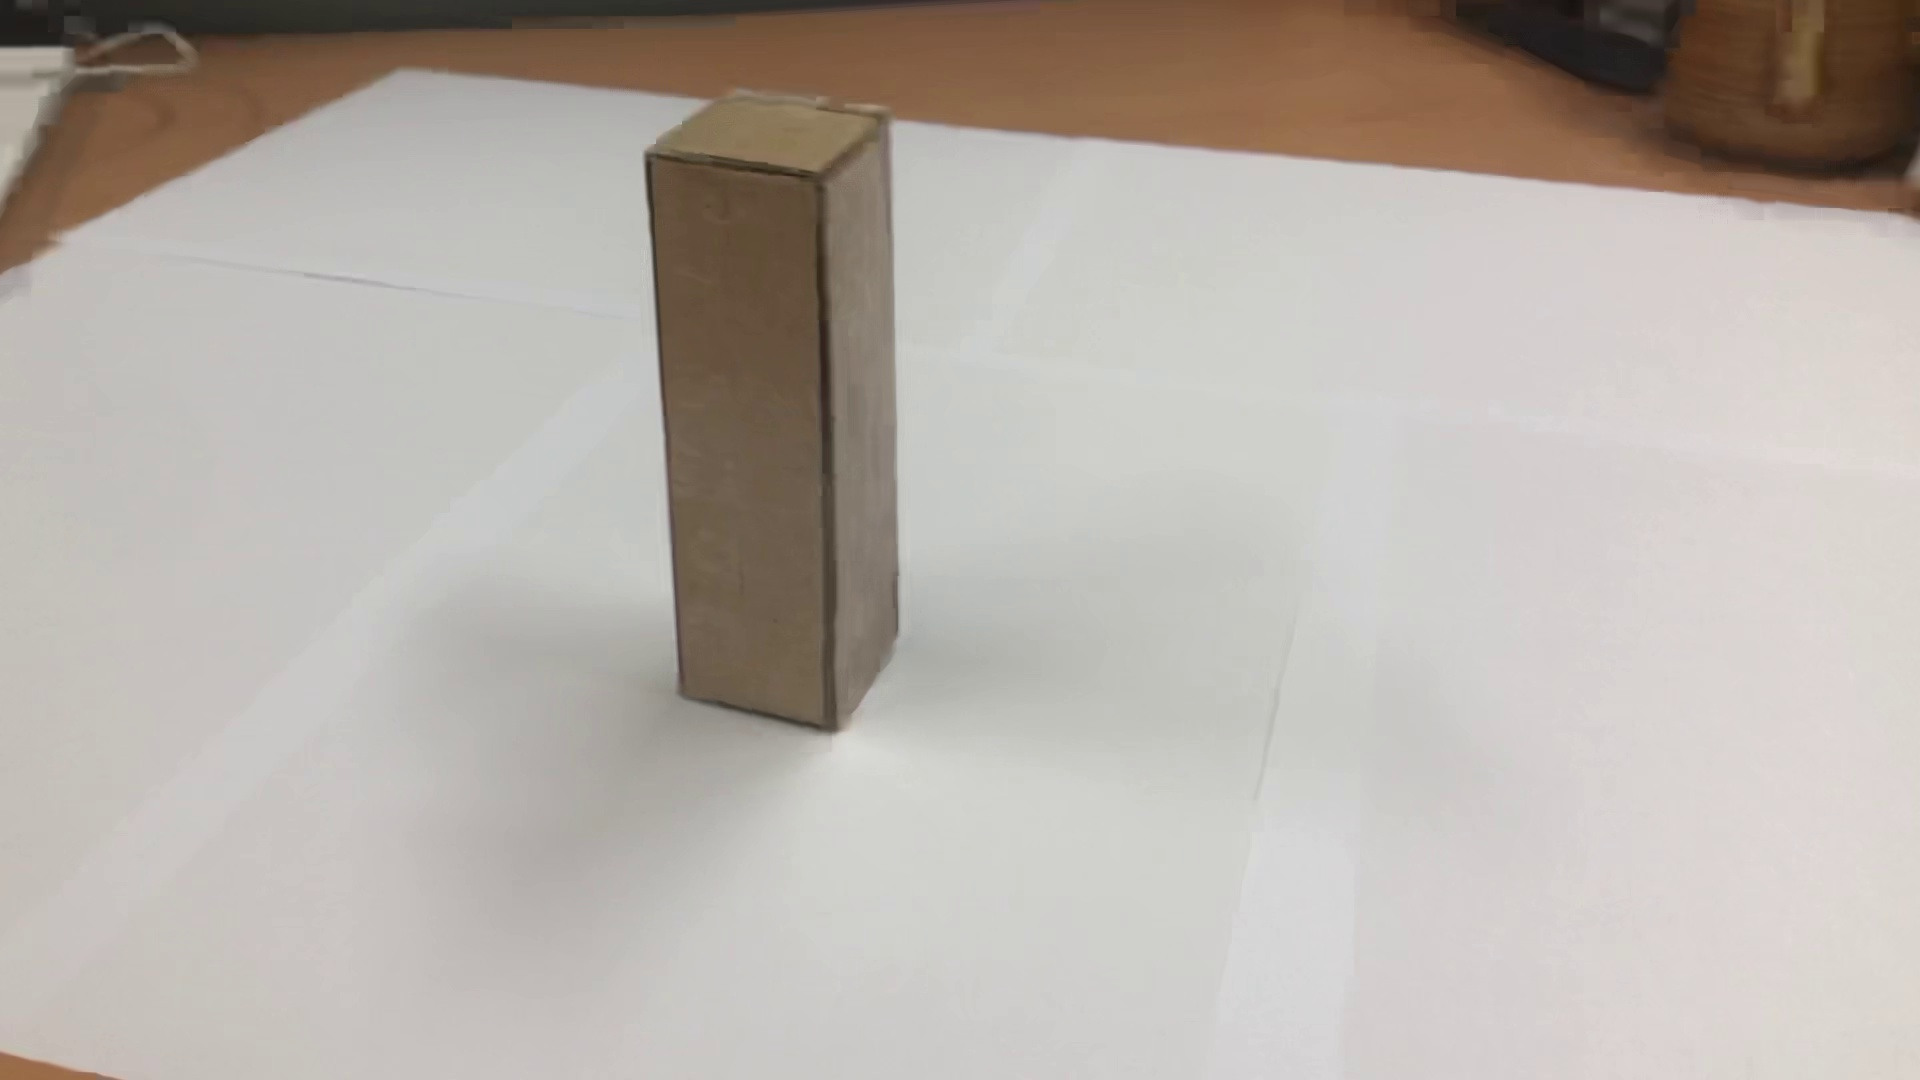box: (613, 76, 963, 773)
